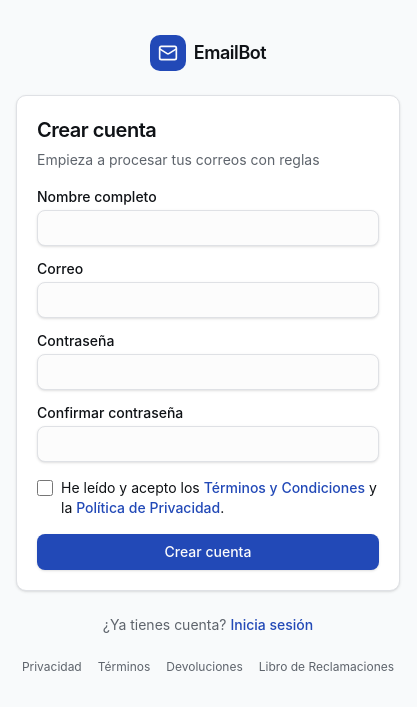
Test: register: acceptance of the legal documents › cannot sign up without accepting: an error is shown and no account is requested
Type "Ana Pérez" into the field labelled "Nombre completo" at (208, 228), box [37,210,379,246]
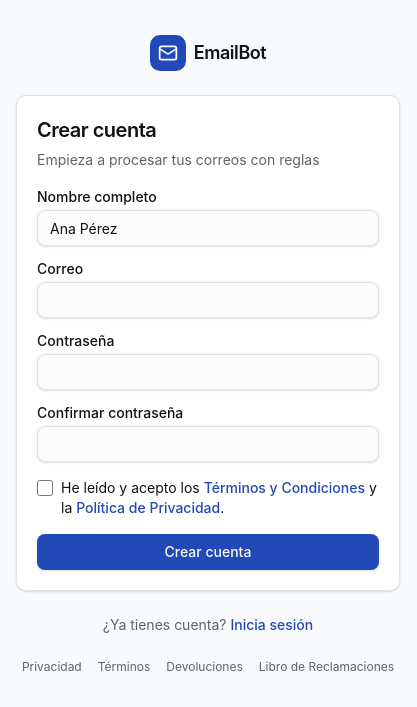
Type "ana@example.com" into the field labelled "Correo" at (208, 300), box [37,282,379,318]
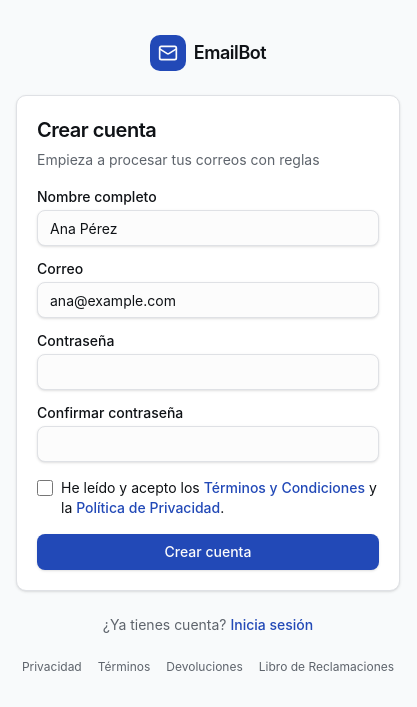
Type "contraseña-segura" into the password field labelled "Contraseña" at (208, 372), box [37,354,379,390]
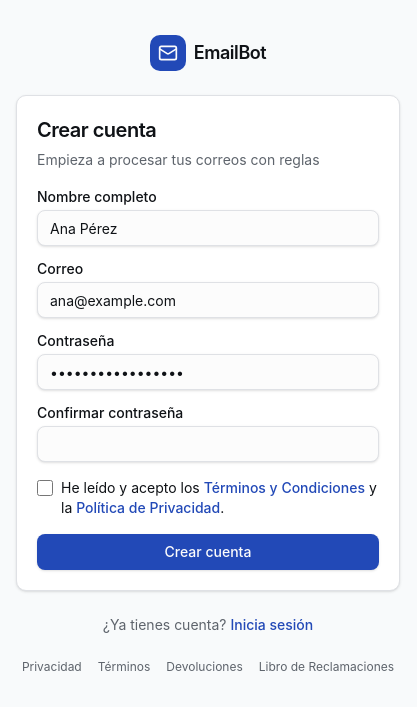
Type "contraseña-segura" into the password field labelled "Confirmar contraseña" at (208, 444), box [37,426,379,462]
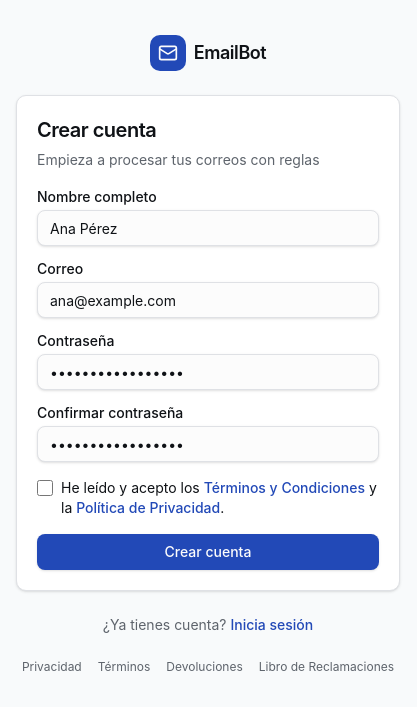
Click the button "Crear cuenta" at (208, 552), box [37,534,379,570]
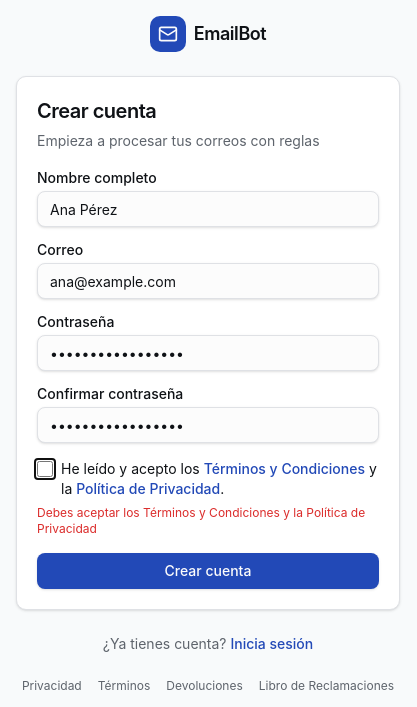
Check: the text "Debes aceptar los Términos y Condiciones y la Política de Privacidad" is shown, box [37,505,379,537]
